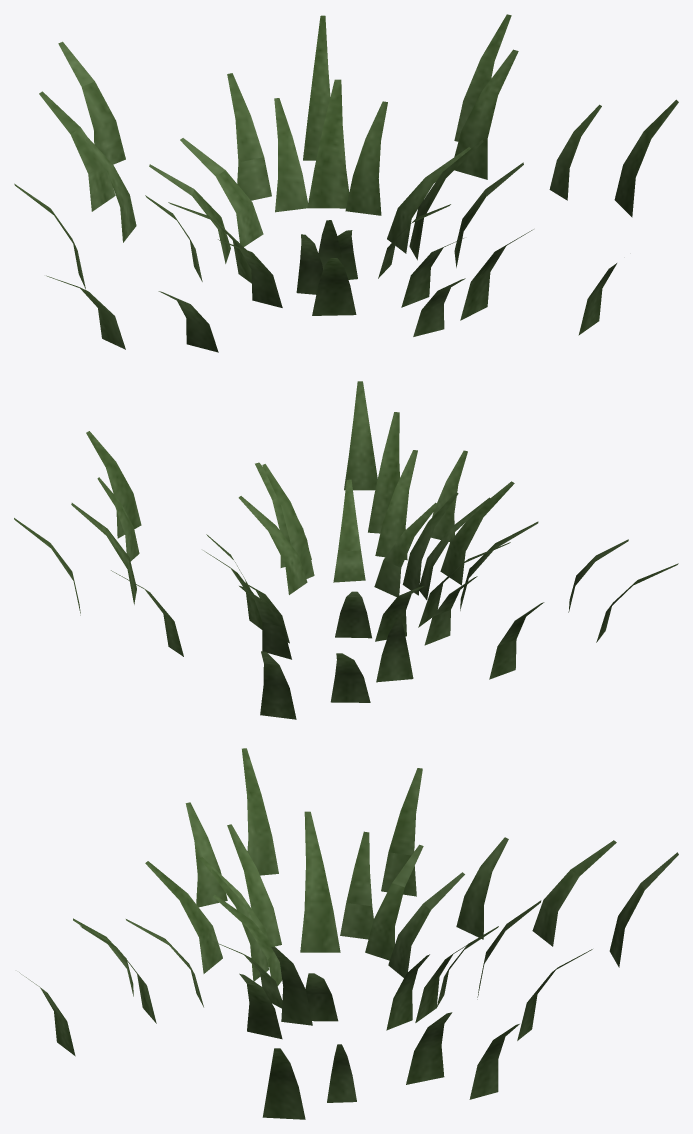
The model's file is grass_tuft_3.glb.
3 views of the same model, one above another, from view 1: azimuth 30°, elevation 25°; view 2: azimuth 150°, elevation 25°; view 3: azimuth 270°, elevation 25° (orthographic). The views are drawn at different scales.
Visible parts, largest first — view 1: grass_tuft_3; view 2: grass_tuft_3; view 3: grass_tuft_3.
Boxes of the visible parts, x1,y1,x2,y2 form: grass_tuft_3: [14, 14, 678, 352]; grass_tuft_3: [14, 381, 678, 719]; grass_tuft_3: [19, 748, 678, 1119].
Size of the model in its own units: 1.21 by 0.1943 by 1.12.
1 material, 1 textured.
